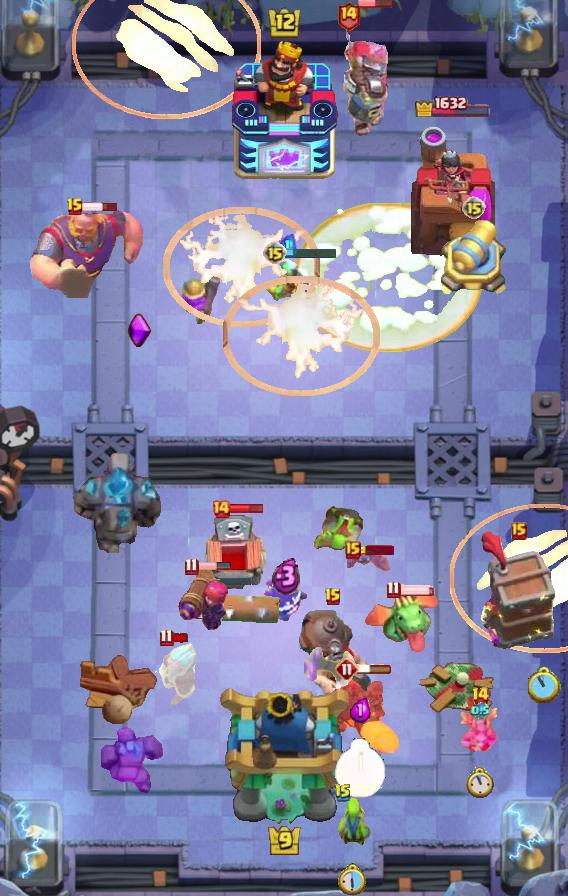archer-evolution: (314, 673, 406, 753)
bar-level: (310, 505, 364, 553)
barbarian-barrel: (340, 550, 392, 574)
barbarian-evolution: (163, 206, 320, 328), (224, 275, 380, 397)
bomb-tower: (179, 274, 221, 326)
cannoneer-tower: (71, 450, 161, 554)
dart-goblin: (480, 531, 558, 651)
electro-spirit: (272, 557, 300, 595), (350, 697, 371, 723), (279, 234, 297, 258), (470, 702, 489, 719)
electro-wizard: (362, 586, 442, 654)
elixir: (334, 738, 387, 798), (528, 667, 561, 703), (338, 864, 368, 896), (466, 767, 494, 799)
elixir-golem-mid: (199, 514, 269, 600)
emote: (286, 247, 339, 259), (398, 584, 436, 596), (81, 201, 118, 213), (357, 663, 393, 675), (229, 502, 264, 513), (358, 545, 394, 555), (196, 561, 232, 571), (358, 0, 394, 8), (170, 632, 189, 644)
giant-snowball: (263, 258, 313, 302)
ice-wizard: (72, 0, 261, 119), (450, 503, 568, 652)
king-tower: (216, 684, 352, 826), (230, 41, 338, 181)
lightning: (28, 208, 146, 298)
mega-minion: (174, 563, 230, 635)
minion: (181, 589, 281, 625)
mortar: (150, 641, 202, 705)
phoenix-big: (293, 203, 484, 353)
queen-tower: (411, 122, 495, 256)
royal-delivery: (459, 705, 501, 753)
royal-giant: (304, 645, 356, 695)
royal-recruit: (438, 217, 510, 299)
selected: (414, 93, 492, 117)
skeleton-king-skill: (126, 312, 152, 348)
spear-goblin: (262, 574, 310, 622)
text: (335, 0, 360, 31), (462, 196, 486, 220), (263, 241, 287, 265), (335, 657, 359, 681), (211, 499, 231, 519), (470, 686, 489, 706), (66, 197, 84, 217), (324, 587, 342, 607), (334, 783, 352, 803), (511, 522, 527, 540), (345, 541, 361, 559), (159, 629, 174, 648), (185, 556, 199, 575), (387, 581, 401, 599)
valkyrie-evolution: (101, 721, 163, 797)
wall-breaker-evolution: (332, 0, 403, 138)
wizard: (293, 606, 373, 726)
zap: (333, 796, 373, 848)
